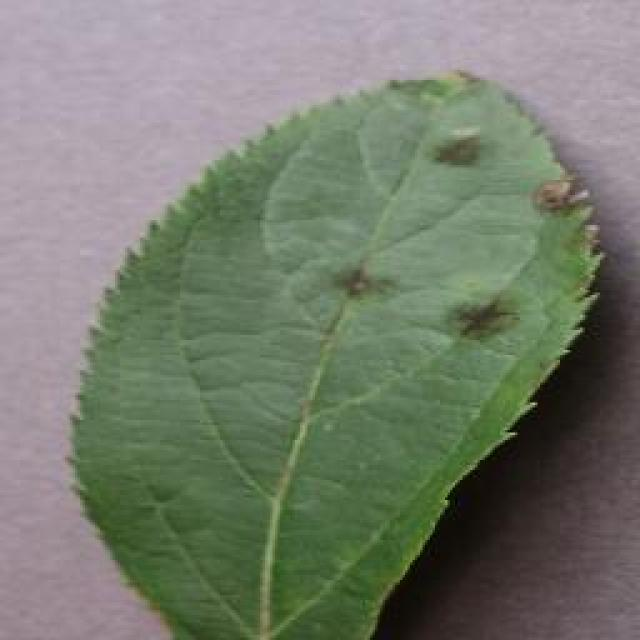apple scab disease: (63, 65, 605, 637)
